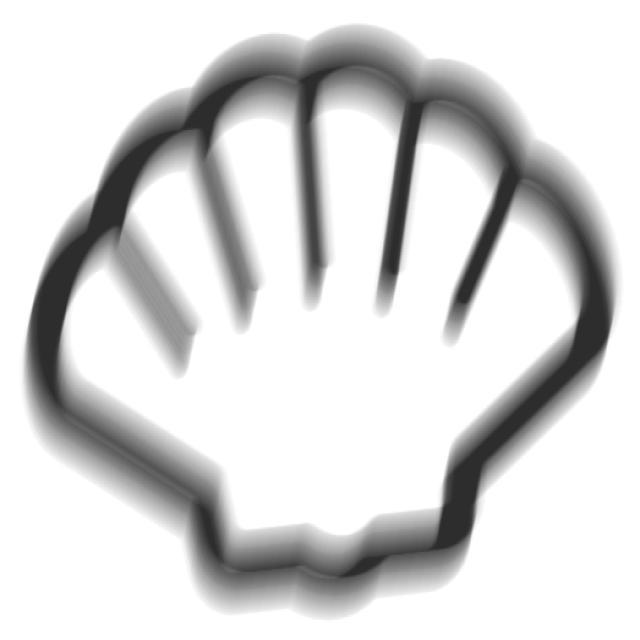shell: (11, 14, 629, 637)
